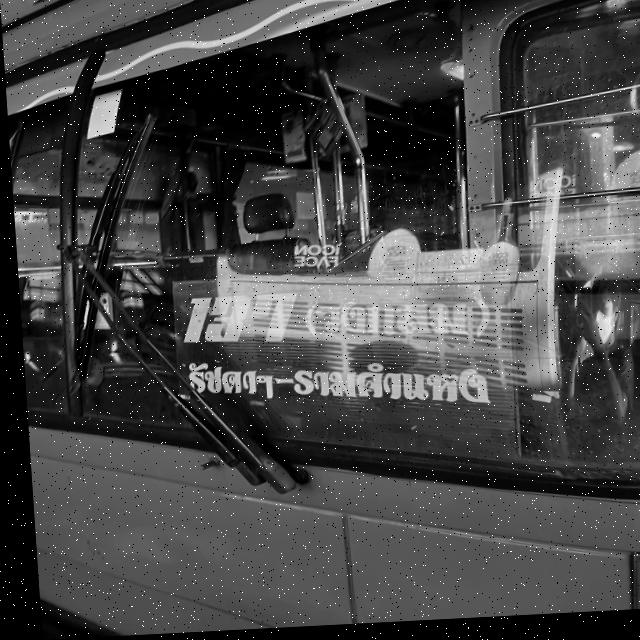Destination Sign: (164, 268, 513, 478)
